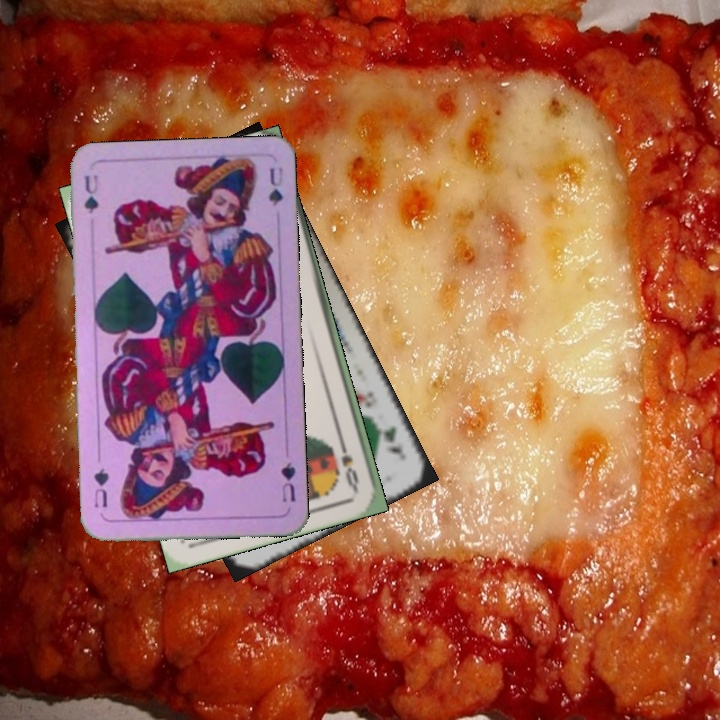GK: (370, 416, 408, 464)
GU: (276, 458, 298, 505), (80, 170, 101, 217)
SO: (335, 434, 362, 493)
